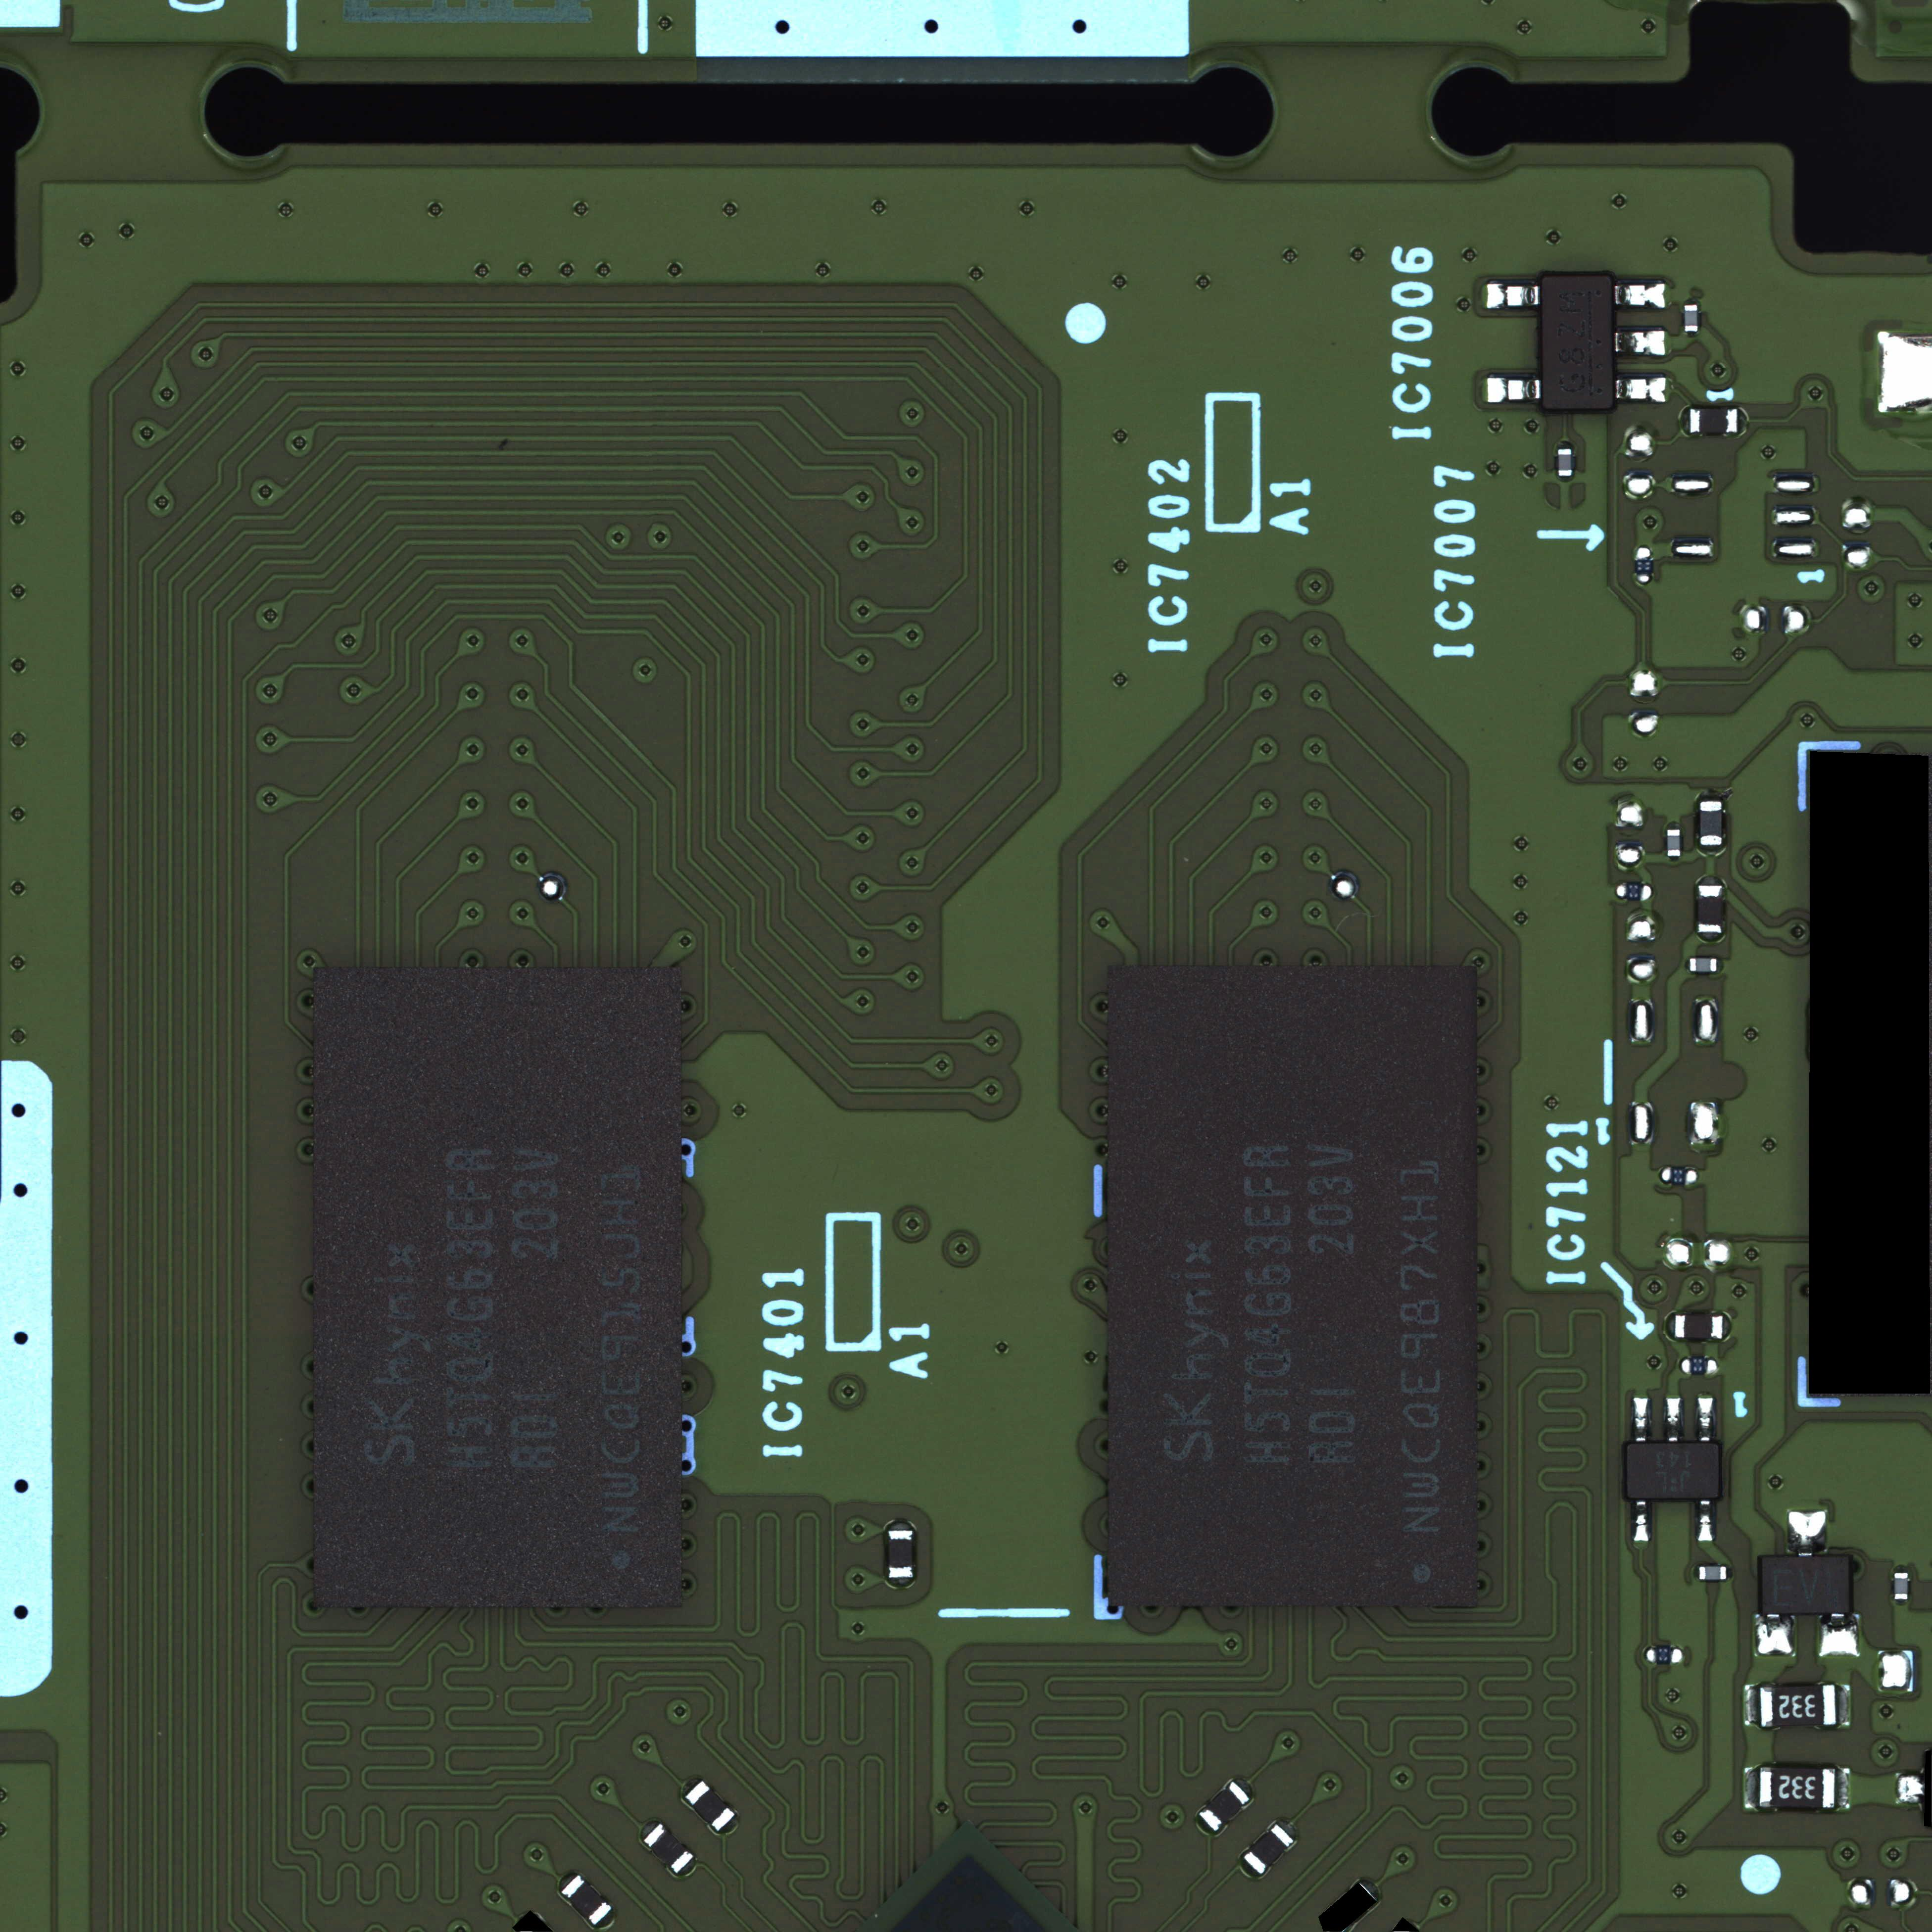Package: (1108, 966, 1477, 1606), (313, 968, 683, 1608), (1541, 276, 1614, 410), (1626, 1442, 1720, 1500), (1760, 1557, 1849, 1612), (1759, 1684, 1836, 1727), (1759, 1766, 1835, 1808), (1198, 1780, 1251, 1833), (1242, 1822, 1295, 1875), (683, 1780, 736, 1833), (642, 1822, 694, 1874), (561, 1875, 610, 1925), (1697, 885, 1721, 934), (1675, 1315, 1723, 1339), (888, 1530, 913, 1578), (1690, 409, 1737, 433), (1700, 801, 1721, 846), (1557, 449, 1573, 476), (1698, 1566, 1727, 1580), (1684, 304, 1698, 331), (1667, 830, 1681, 856), (1895, 1573, 1909, 1599), (1690, 957, 1716, 971)
Solder: (1787, 1509, 1828, 1557), (1819, 1614, 1861, 1658), (1753, 1614, 1796, 1658), (1486, 373, 1541, 405), (1486, 278, 1541, 310), (1615, 324, 1667, 357), (1615, 372, 1667, 403), (1615, 280, 1667, 310), (1895, 1775, 1925, 1805), (1697, 1396, 1714, 1442), (1233, 1854, 1261, 1882), (1359, 1874, 1385, 1902), (1191, 1813, 1217, 1842), (717, 1813, 745, 1840), (633, 1813, 660, 1842), (554, 1865, 580, 1893), (1665, 1398, 1681, 1442), (1633, 1398, 1649, 1442), (1277, 1815, 1304, 1842), (676, 1856, 702, 1882), (1743, 1684, 1759, 1727), (1633, 1500, 1649, 1543), (676, 1773, 702, 1798), (594, 1907, 621, 1932), (1697, 1500, 1713, 1541), (1743, 1767, 1759, 1808), (1233, 1775, 1258, 1799), (1836, 1767, 1851, 1810), (1838, 1684, 1851, 1727), (885, 1518, 916, 1530), (1695, 787, 1725, 800), (1679, 405, 1690, 437), (1695, 846, 1727, 856), (885, 1578, 915, 1589), (1737, 407, 1748, 435), (1697, 874, 1725, 885), (1665, 1311, 1674, 1341), (1697, 934, 1725, 943), (1723, 1313, 1732, 1341), (1891, 1564, 1909, 1573), (1555, 441, 1575, 448), (1555, 476, 1575, 483), (1718, 957, 1725, 975), (1667, 821, 1681, 830), (1727, 1564, 1734, 1580), (1893, 1599, 1909, 1606), (1683, 297, 1700, 303), (1683, 333, 1700, 338), (1684, 957, 1690, 973), (1693, 1564, 1698, 1580), (1667, 856, 1683, 862)
